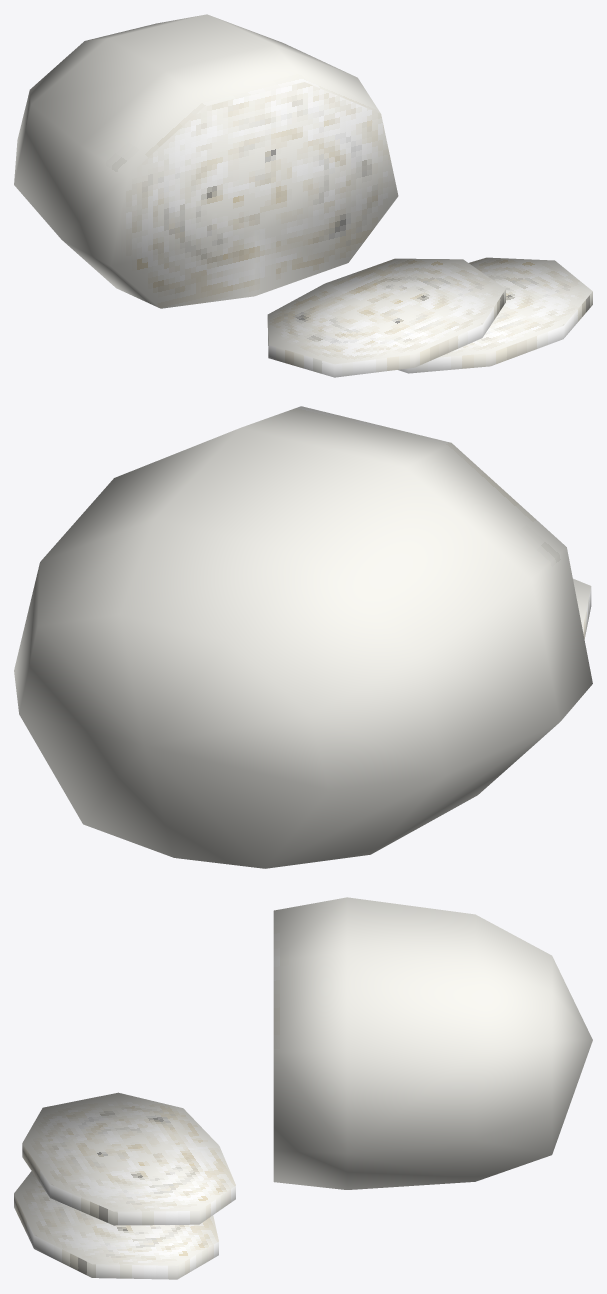
File: DevCheeseSoft.fbx
3 renders of one model, top to bottom at view 1: azimuth 30°, elevation 25°; view 2: azimuth 150°, elevation 25°; view 3: azimuth 270°, elevation 25°, orthographic. The views are drawn at different scales.
Visible parts, largest first — view 1: CheeseSoft; view 2: CheeseSoft; view 3: CheeseSoft.
Part boxes in pixels (bbox=[...]): CheeseSoft: bbox=[14, 14, 592, 377]; CheeseSoft: bbox=[14, 406, 592, 868]; CheeseSoft: bbox=[14, 897, 592, 1279].
Size of the model in its own units: 39.82 by 20.16 by 46.79.
